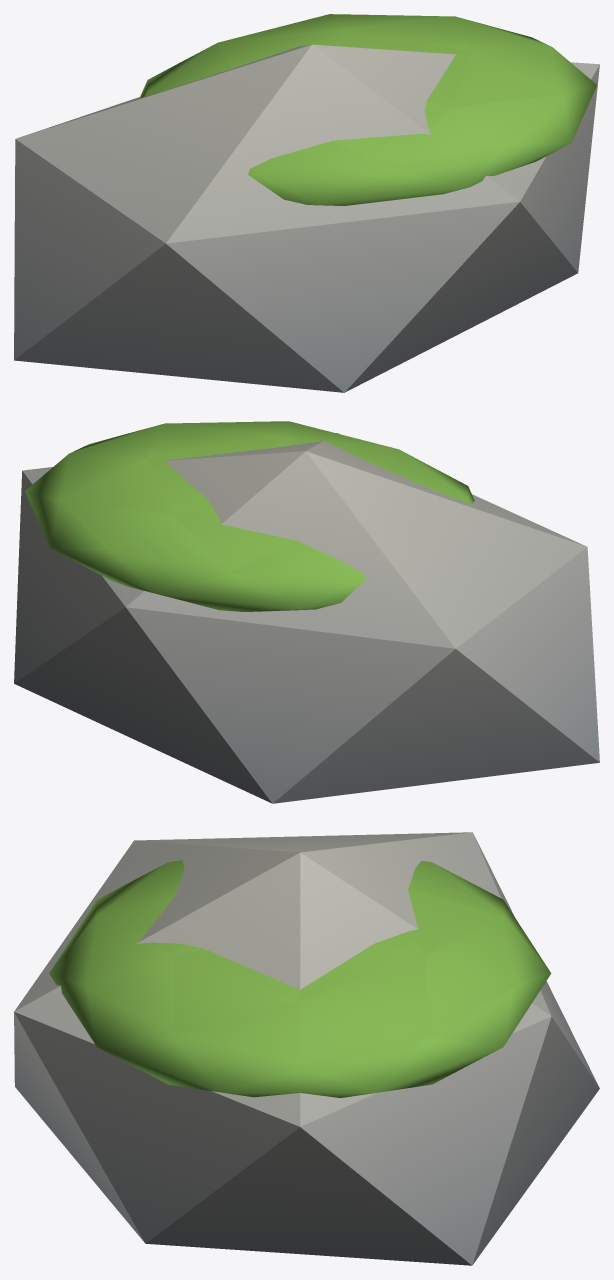
The model's file is rock_big.glb.
The picture shows the model from 3 angles, top to bottom: view 1: azimuth 30°, elevation 25°; view 2: azimuth 150°, elevation 25°; view 3: azimuth 270°, elevation 25°; orthographic projection. The views are drawn at different scales.
Visible parts, largest first — view 1: Rock; view 2: Rock; view 3: Rock.
Boxes of the visible parts, x1,y1,x2,y2 form: Rock: [14, 14, 599, 392]; Rock: [14, 421, 599, 803]; Rock: [14, 832, 599, 1265].
Bounding box in the file's own units: 3.46 × 1.88 × 2.51.
